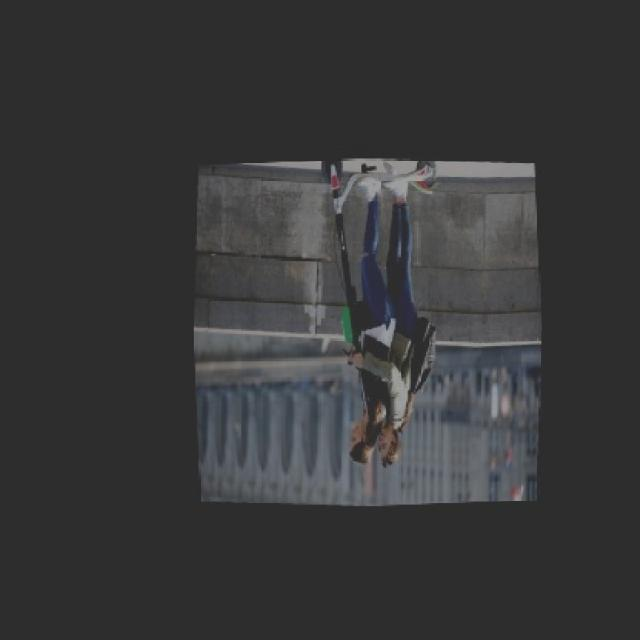bare_head: (339, 423, 375, 466), (373, 425, 400, 467)
human: (375, 173, 418, 471), (350, 169, 386, 470)
kickboard: (304, 160, 447, 202)
